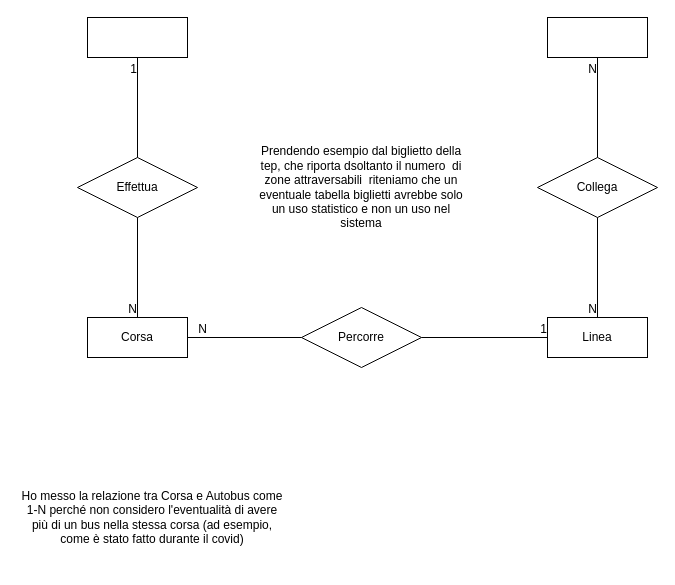
Some shapes in this 675 by 585 pixel diagram are drawn without their labels. The box of each missing label's shape, as (x1, y1, x2, y2) in pixels:
Autobus: (86, 16, 188, 58)
Fermata: (546, 16, 648, 58)
